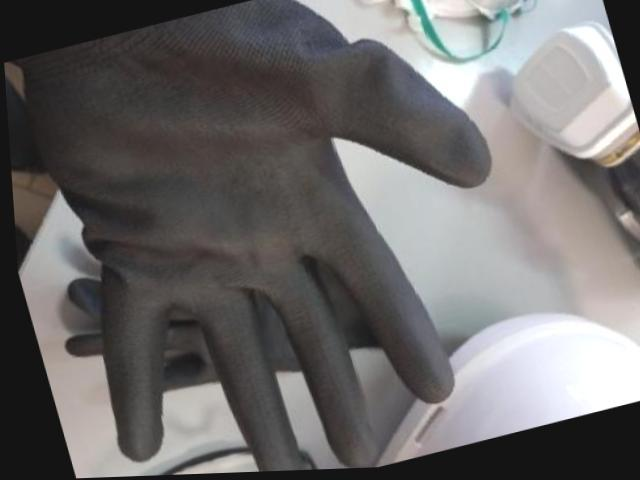Hand-in-Glove: (1, 0, 562, 480)
